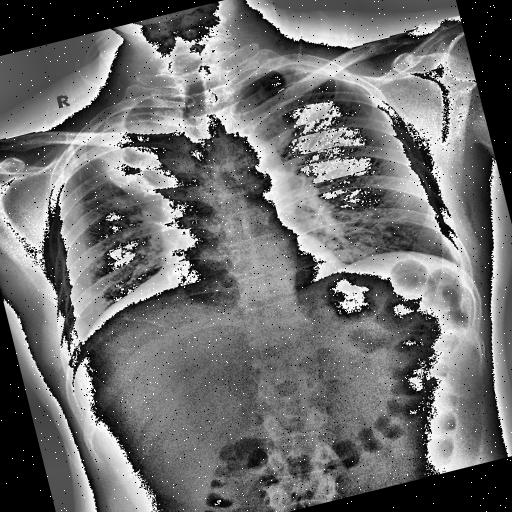0- Aortic enlargement: (208, 124, 294, 220), (209, 120, 296, 208), (212, 122, 292, 204)
1- Atelectasis: (67, 84, 211, 236), (70, 91, 199, 220)
4- Consolidation: (67, 84, 211, 236), (62, 103, 202, 232), (70, 91, 199, 220)
7- Lung Opacity: (70, 91, 199, 220)
